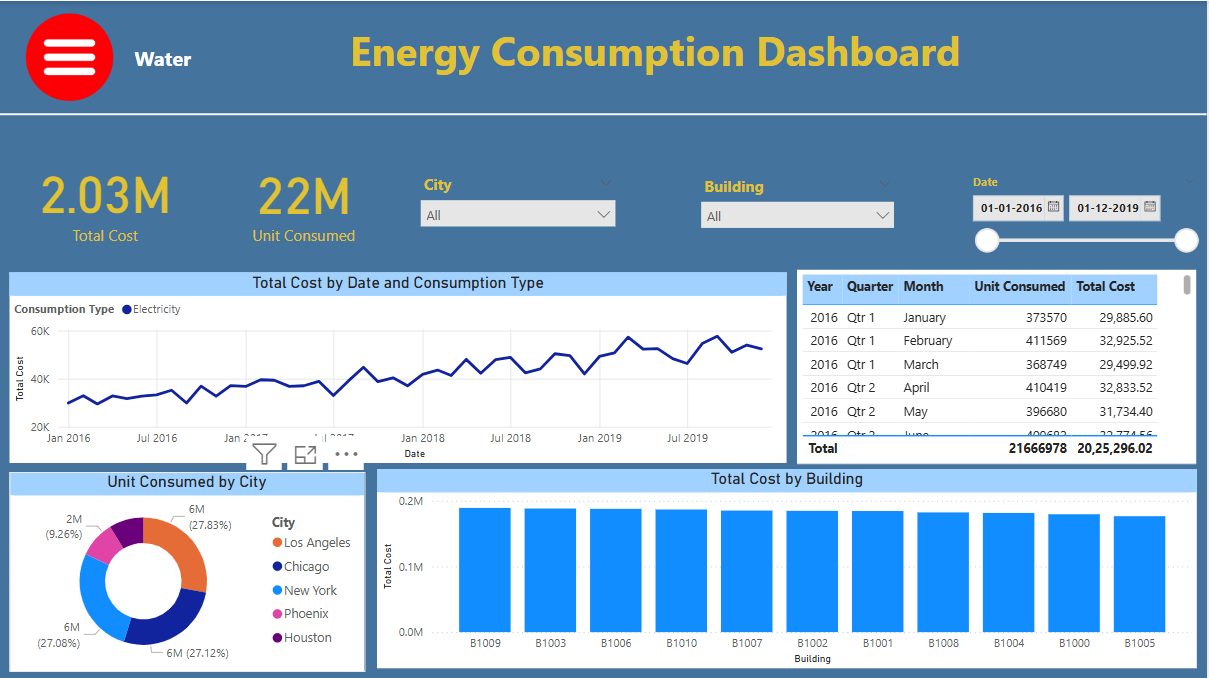

The dashboard page shown, as its layout file describes it:
{"tool":"powerbi","page":{"name":"Water","canvas":[1280,720],"ordinal":1},"visuals":[{"type":"shape","box":[0,97,1280.4,46.1],"z":0},{"type":"image","box":[10.6,7.9,126.9,103.1],"z":1000},{"type":"textbox","box":[278.4,17.5,835.1,79.5],"z":2000},{"type":"actionButton","box":[23.8,13.2,100.5,100.5],"z":3000},{"type":"textbox","box":[138.4,39.8,112.9,41.4],"z":4000},{"type":"card","fields":{"Values":["Building Master.Total Cost"]},"box":[11.1,155.9,202,106.6],"z":5000},{"type":"card","fields":{"Values":["Energy Consumptions.Unit Consumed"]},"box":[225.9,155.9,194.1,108.2],"z":6000},{"type":"slicer","fields":{"Values":["Building Master.City"]},"box":[437.4,178.1,225.9,84.3],"z":7000},{"type":"slicer","fields":{"Values":["Energy Consumptions.Building"]},"box":[734.9,179.7,224.3,84.3],"z":8000},{"type":"slicer","fields":{"Values":["Energy Consumptions.Date"]},"box":[1019.6,178.1,260.9,108.2],"z":9000},{"type":"lineChart","fields":{"Category":["Energy Consumptions.Date"],"Y":["Building Master.Total Cost"],"Series":["Energy Consumptions.Consumption Type"]},"box":[11.3,287.2,823.9,202.2],"z":10000},{"type":"donutChart","fields":{"Category":["Building Master.City"],"Y":["Energy Consumptions.Unit Consumed"]},"box":[11.3,498.9,376.1,211.7],"z":11000},{"type":"clusteredColumnChart","fields":{"Category":["Energy Consumptions.Building"],"Y":["Building Master.Total Cost"]},"box":[400.6,497,869.3,211.7],"z":12000},{"type":"tableEx","fields":{"Values":["Energy Consumptions.Date.Variation.Date Hierarchy.Year","Energy Consumptions.Date.Variation.Date Hierarchy.Quarter","Energy Consumptions.Date.Variation.Date Hierarchy.Month","Energy Consumptions.Unit Consumed","Building Master.Total Cost"]},"box":[847.8,283.1,423.1,206.8],"z":13000},{"type":"actionButton","box":[23.8,13.2,100.5,97.9],"z":14000}]}

Visuals, with their boxes in screenshot pixels (x1, y1, x2, y2), scaled from the page's 1280x720 canvas onto the 1209x678 screenshot:
shape: x1=0, y1=91, x2=1208, y2=135
image: x1=10, y1=7, x2=130, y2=105
textbox: x1=263, y1=16, x2=1052, y2=91
actionButton: x1=22, y1=12, x2=117, y2=107
textbox: x1=131, y1=37, x2=237, y2=76
card - Building Master.Total Cost: x1=10, y1=147, x2=201, y2=247
card - Energy Consumptions.Unit Consumed: x1=213, y1=147, x2=397, y2=249
slicer - Building Master.City: x1=413, y1=168, x2=627, y2=247
slicer - Energy Consumptions.Building: x1=694, y1=169, x2=906, y2=249
slicer - Energy Consumptions.Date: x1=963, y1=168, x2=1208, y2=270
lineChart - Energy Consumptions.Date x Building Master.Total Cost: x1=11, y1=270, x2=789, y2=461
donutChart - Building Master.City x Energy Consumptions.Unit Consumed: x1=11, y1=470, x2=366, y2=669
clusteredColumnChart - Energy Consumptions.Building x Building Master.Total Cost: x1=378, y1=468, x2=1199, y2=667
tableEx - Energy Consumptions.Date.Variation.Date Hierarchy.Year x Energy Consumptions.Date.Variation.Date Hierarchy.Quarter: x1=801, y1=267, x2=1200, y2=461
actionButton: x1=22, y1=12, x2=117, y2=105
